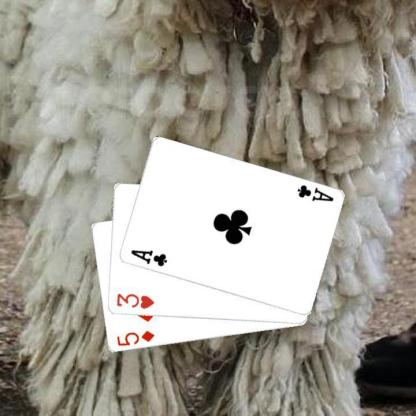3H: (114, 291, 155, 310)
5D: (114, 328, 155, 348)
AC: (294, 182, 335, 203), (128, 247, 168, 268)
